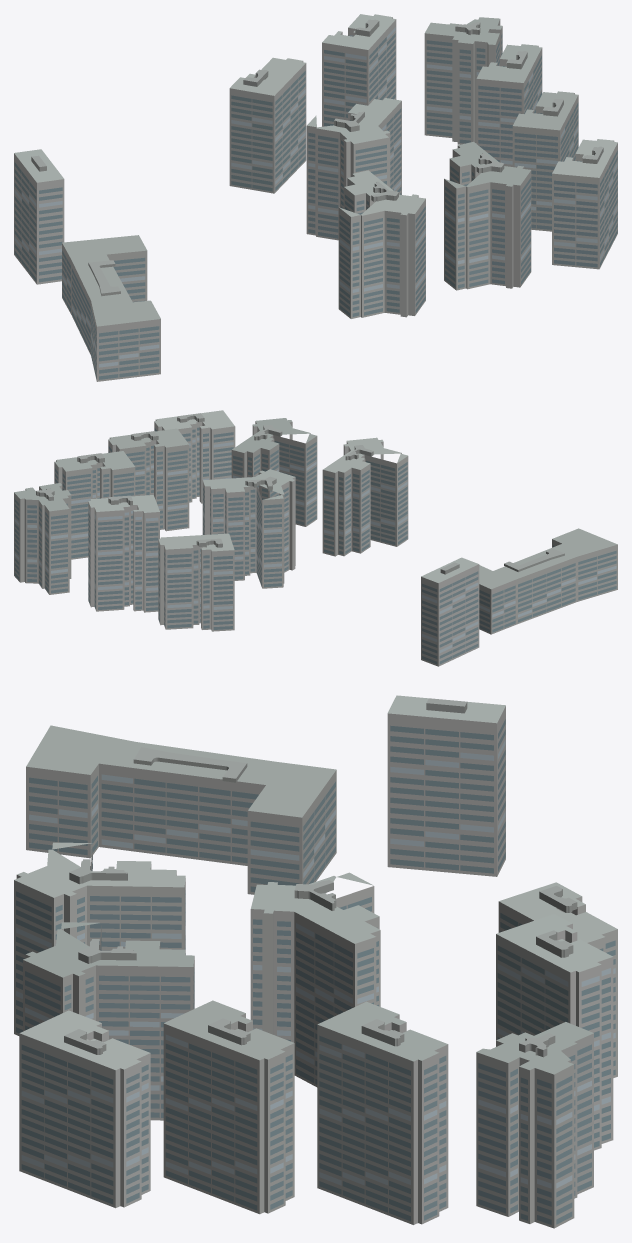
The model's file is apt-a10025683.glb.
The picture shows the model from 3 angles, top to bottom: view 1: azimuth 30°, elevation 25°; view 2: azimuth 150°, elevation 25°; view 3: azimuth 270°, elevation 25°; orthographic projection. The views are drawn at different scales.
Parts seen in each view (by area): view 1: apt-a10025683; view 2: apt-a10025683; view 3: apt-a10025683.
Part boxes in pixels (box(x1,y1,x2,y2)): apt-a10025683: box(14, 14, 617, 381); apt-a10025683: box(14, 410, 617, 666); apt-a10025683: box(14, 695, 617, 1228).
Bounding box in the file's own units: 268 × 57 × 163.
